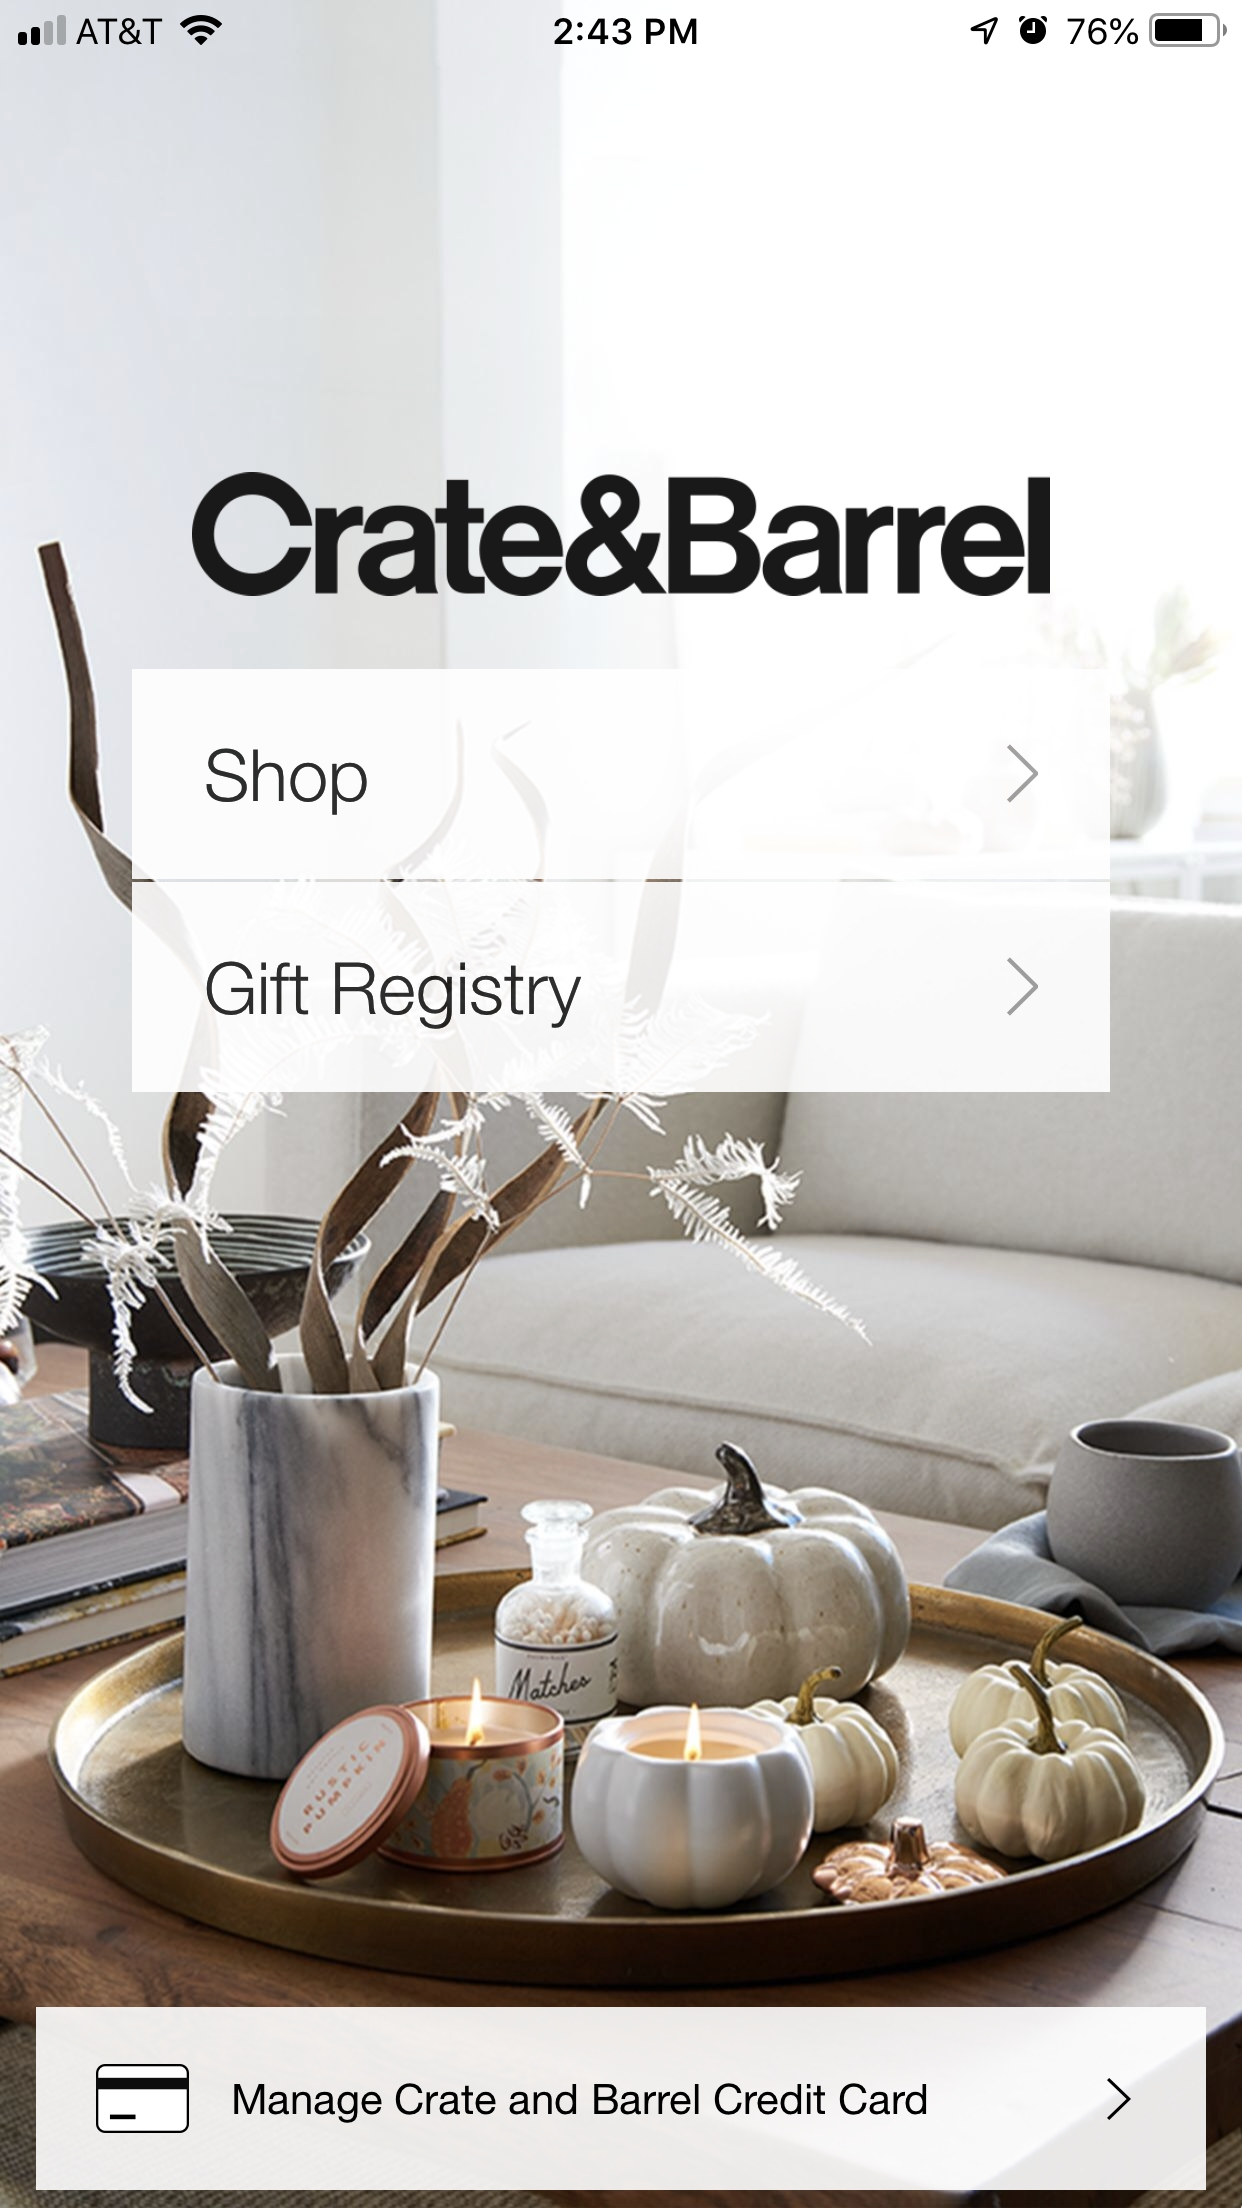BackgroundImage: (2, 49, 1242, 2208)
Icon: (96, 2062, 191, 2134), (1005, 745, 1039, 804), (1005, 958, 1039, 1018), (1106, 2078, 1131, 2122)
Text: (193, 472, 1051, 597), (234, 2082, 927, 2125), (206, 961, 582, 1031), (206, 748, 369, 817)
UpperTaskBar: (2, 2, 1242, 49)
